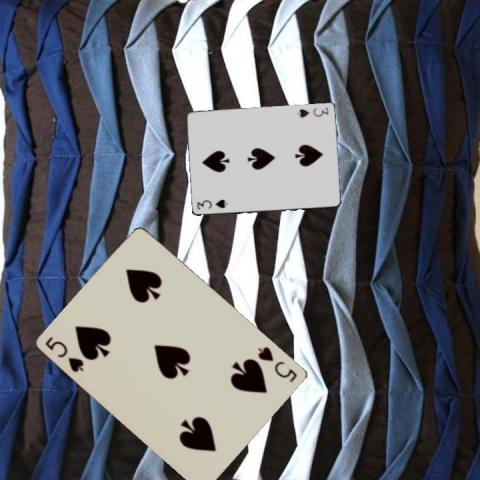3s: (295, 104, 330, 119), (194, 196, 229, 211)
5s: (255, 343, 298, 384), (43, 333, 86, 374)
